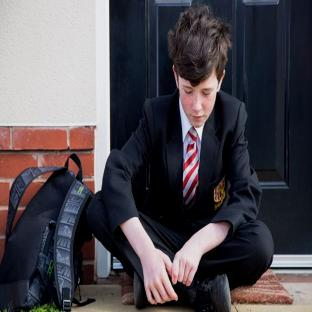Human: (88, 5, 273, 311)
